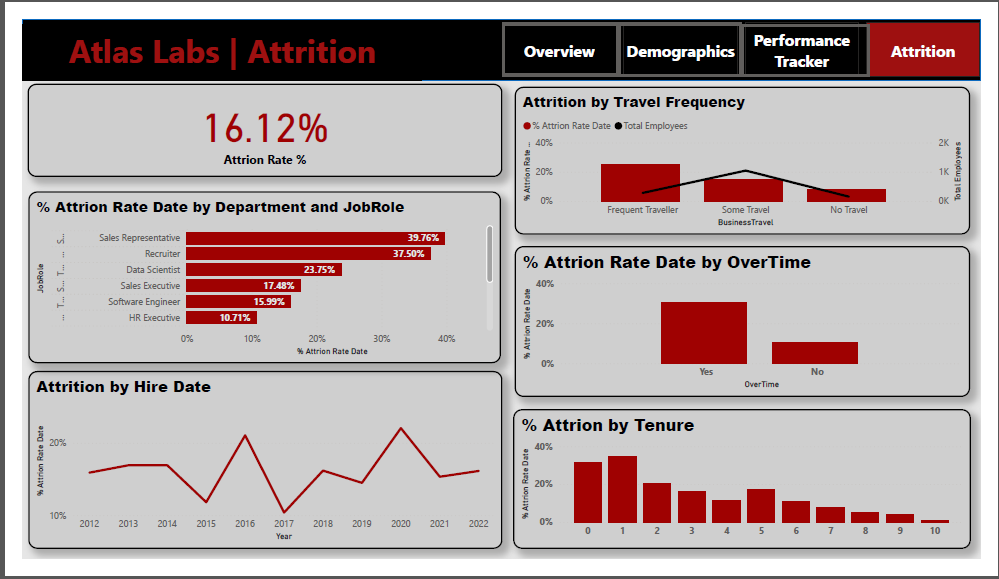

This screenshot's page, from the dashboard's own definition file:
{"tool":"powerbi","page":{"name":"Attrition","canvas":[1280,720],"ordinal":3},"visuals":[{"type":"shape","box":[0,0,1280.2,80.6],"z":0},{"type":"pageNavigator","box":[640.8,4.3,639.4,72],"z":1000},{"type":"actionButton","box":[796.3,4.3,164.2,72],"z":2000},{"type":"actionButton","box":[960.5,5.8,171.4,70.6],"z":3000},{"type":"actionButton","box":[640.8,4.3,155.5,70.6],"z":4000},{"type":"textbox","box":[0,5.8,532.8,74.9],"z":5000},{"type":"card","fields":{"Values":["_Measures.Attrion Rate %"]},"box":[5.8,85,635,125.3],"z":6000},{"type":"lineChart","title":"Attrition by Hire Date","fields":{"Category":["DimDate.Date.Variation.Date Hierarchy.Year","DimDate.Date.Variation.Date Hierarchy.Quarter","DimDate.Date.Variation.Date Hierarchy.Month","DimDate.Date.Variation.Date Hierarchy.Day"],"Y":["_Measures.% Attrion Rate Date"]},"box":[7.2,469.4,633.6,237.6],"z":7000},{"type":"clusteredBarChart","fields":{"Category":["DimEmployee.Department","DimEmployee.JobRole"],"Y":["_Measures.% Attrion Rate Date"]},"box":[7.2,229,632.2,230.4],"z":8000},{"type":"lineStackedColumnComboChart","title":" Attrition by Travel Frequency","fields":{"Y":["_Measures.% Attrion Rate Date"],"Category":["DimEmployee.BusinessTravel"],"Y2":["_Measures.Total Employees"]},"box":[656.6,89.3,609.1,197.3],"z":9000},{"type":"clusteredColumnChart","fields":{"Y":["_Measures.% Attrion Rate Date"],"Category":["DimEmployee.OverTime"]},"box":[656.6,302.4,609.1,201.6],"z":10000},{"type":"clusteredColumnChart","title":" % Attrion by Tenure","fields":{"Y":["_Measures.% Attrion Rate Date"],"Category":["DimEmployee.YearsAtCompany"]},"box":[655.2,519.8,612,187.2],"z":11000}]}

Visuals, with their boxes in screenshot pixels (x1, y1, x2, y2), scaled from the page's 1280x720 canvas onto the 999x579 screenshot:
shape: [left=0, top=0, right=998, bottom=65]
pageNavigator: [left=500, top=3, right=998, bottom=61]
actionButton: [left=621, top=3, right=750, bottom=61]
actionButton: [left=750, top=5, right=883, bottom=61]
actionButton: [left=500, top=3, right=621, bottom=60]
textbox: [left=0, top=5, right=416, bottom=65]
card - _Measures.Attrion Rate %: [left=5, top=68, right=500, bottom=169]
"Attrition by Hire Date" lineChart: [left=6, top=377, right=500, bottom=569]
clusteredBarChart - DimEmployee.Department x DimEmployee.JobRole: [left=6, top=184, right=499, bottom=369]
" Attrition by Travel Frequency" lineStackedColumnComboChart: [left=512, top=72, right=988, bottom=230]
clusteredColumnChart - _Measures.% Attrion Rate Date x DimEmployee.OverTime: [left=512, top=243, right=988, bottom=405]
" % Attrion by Tenure" clusteredColumnChart: [left=511, top=418, right=989, bottom=569]
